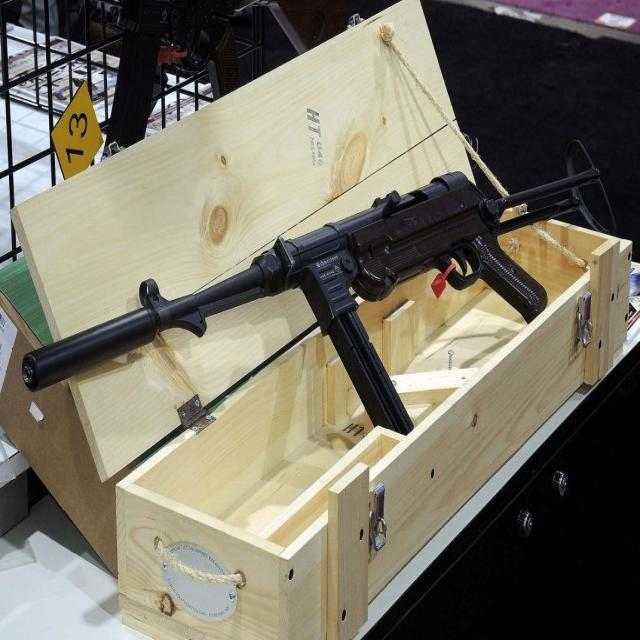firearm: (19, 132, 622, 435)
